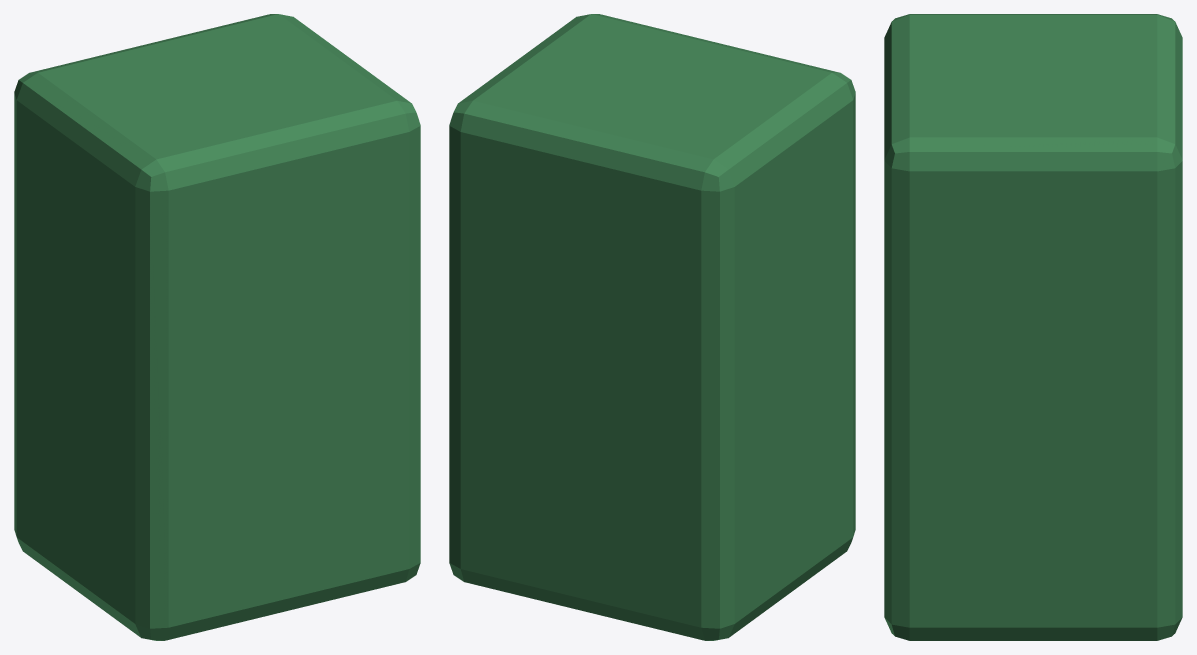
File: Prop_Street_004.glb
3 renders of one model, left to right at view 1: azimuth 30°, elevation 25°; view 2: azimuth 150°, elevation 25°; view 3: azimuth 270°, elevation 25°, orthographic. The views are drawn at different scales.
Visible parts, largest first — view 1: Prop_Street_004; view 2: Prop_Street_004; view 3: Prop_Street_004.
Boxes of the visible parts, bbox=[...] form: Prop_Street_004: bbox=[14, 14, 420, 640]; Prop_Street_004: bbox=[449, 14, 855, 640]; Prop_Street_004: bbox=[884, 14, 1182, 640].
Size of the model in its own units: 0.8 by 1.3 by 0.7.
